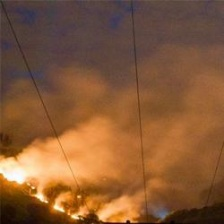fire: (1, 154, 139, 222)
smoke: (22, 111, 130, 172)
